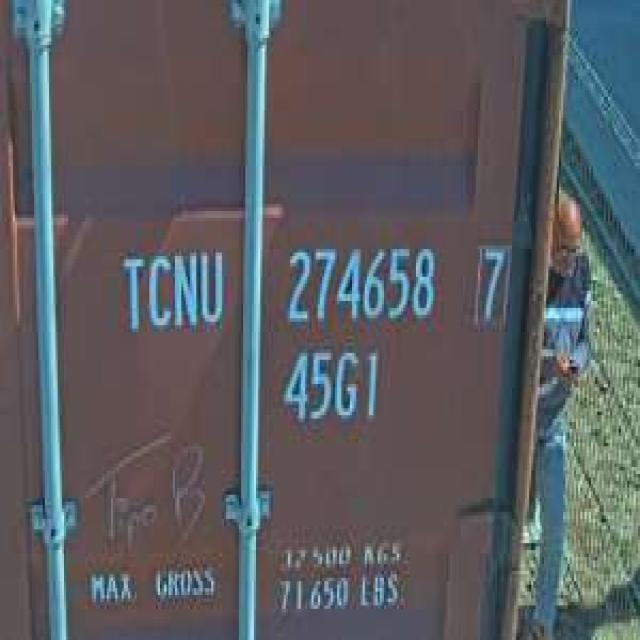dv: (467, 232, 512, 332)
owner: (115, 235, 228, 339)
serial: (277, 232, 442, 328)
size: (275, 336, 384, 432)
